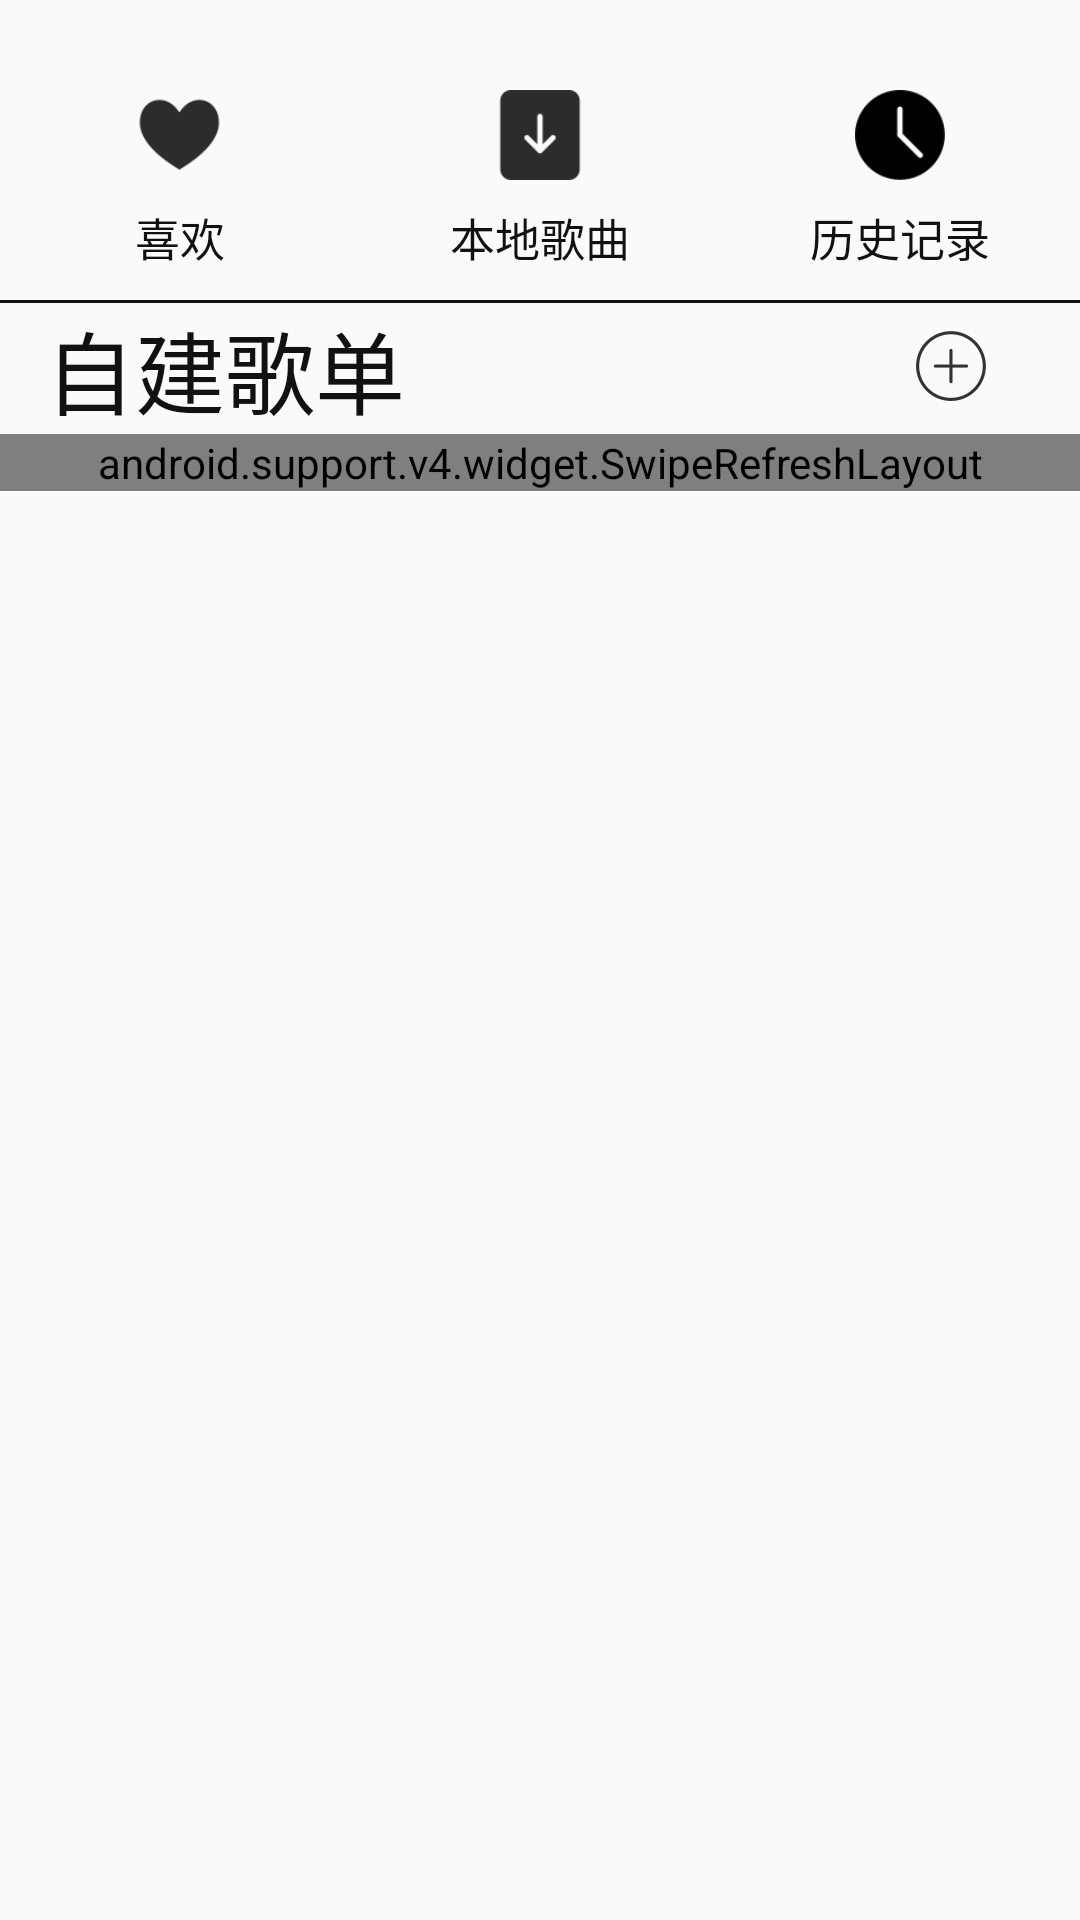

Point at icon controls on the screen. Image size 1080×1920, points as (x,y).
xinjian: (951,366)
